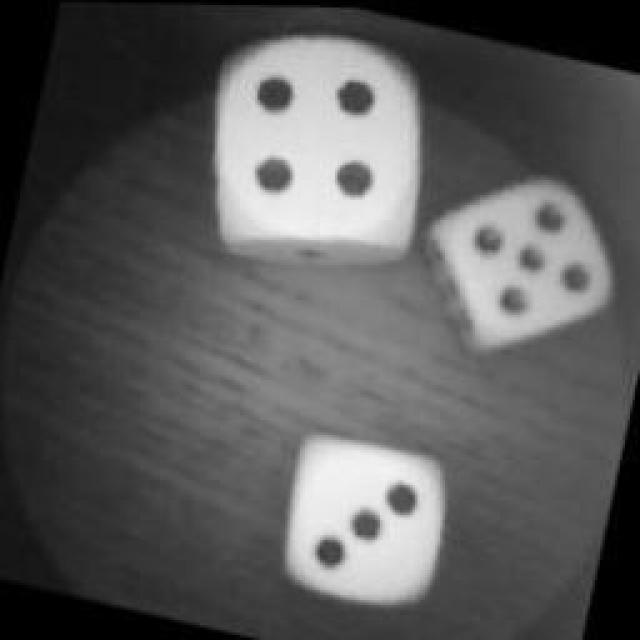dice_3: (262, 414, 472, 624)
dice_4: (185, 4, 460, 284)
dice_5: (412, 146, 638, 366)
